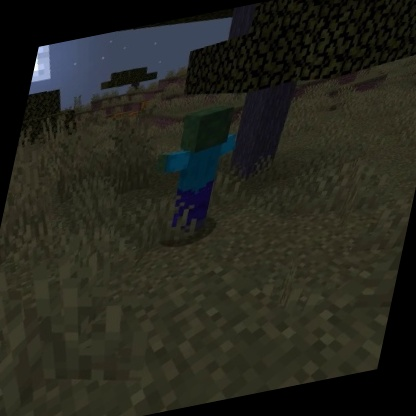zombie: (133, 97, 250, 253)
